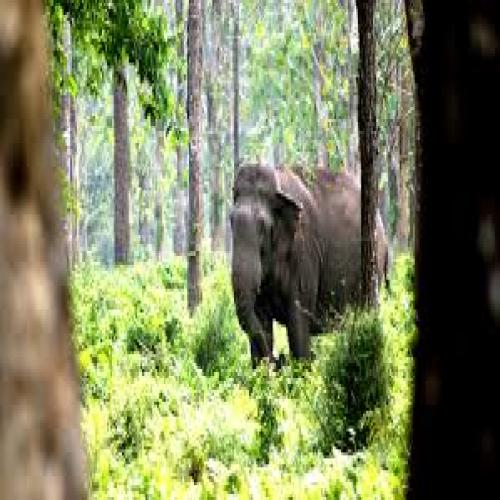asian_elephant-endangered: (230, 165, 391, 359)
